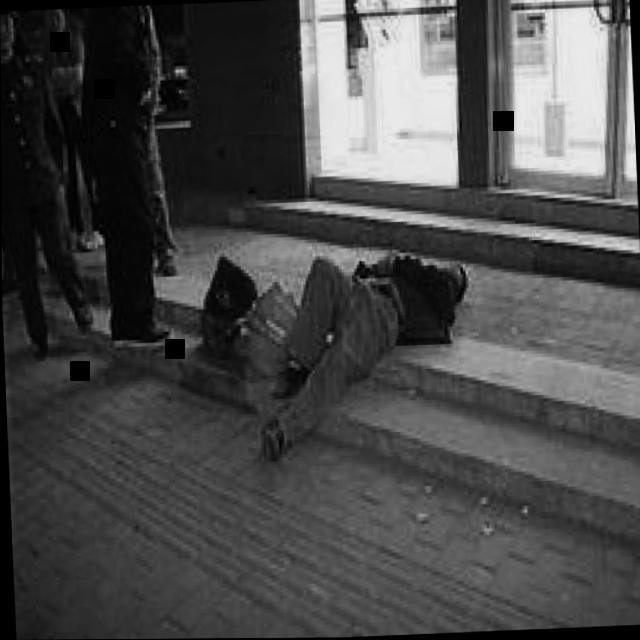Fall-Detected: (228, 223, 485, 463)
